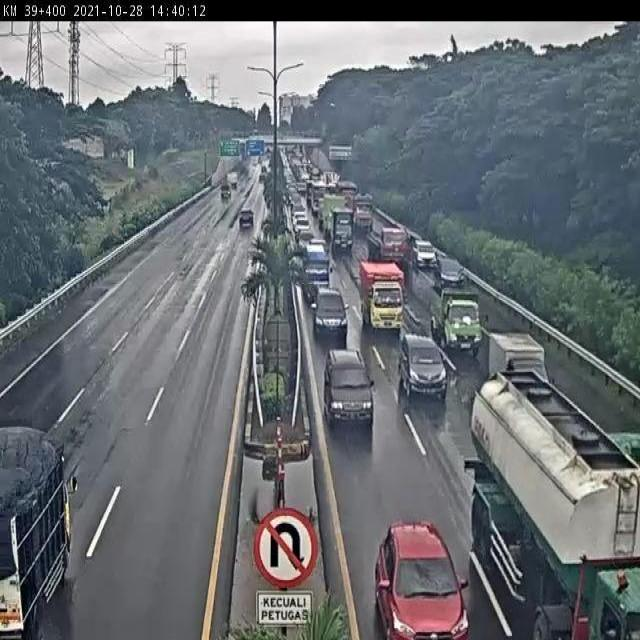ARABA: (323, 345, 379, 428), (398, 329, 449, 402), (312, 288, 348, 339), (432, 255, 468, 292), (411, 236, 439, 272)
KAMYONET: (428, 279, 483, 352), (486, 332, 551, 391), (358, 259, 404, 332), (328, 204, 355, 252)
OTOBUS: (299, 241, 332, 299)
TIR: (364, 227, 412, 270)
